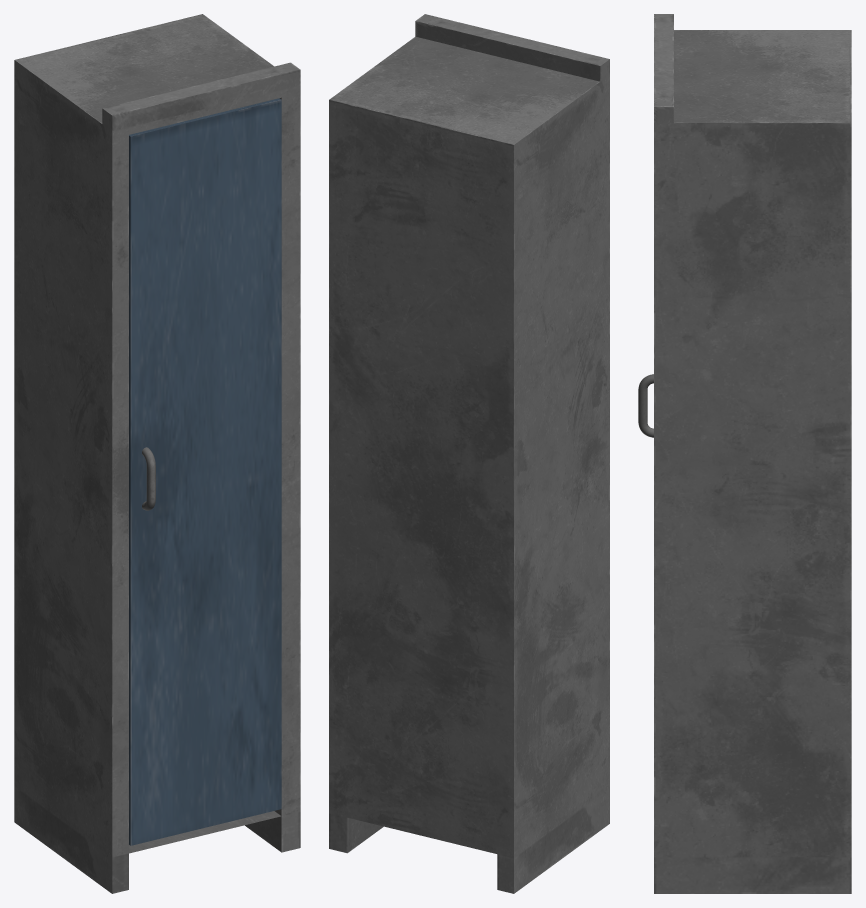
Rendered from locker.fbx.
The picture shows the model from 3 angles, left to right: view 1: azimuth 30°, elevation 25°; view 2: azimuth 150°, elevation 25°; view 3: azimuth 270°, elevation 25°; orthographic projection. The views are drawn at different scales.
Parts seen in each view (by area): view 1: body, door, dooHandle; view 2: body; view 3: body, dooHandle.
Boxes of the visible parts, bbox=[...] form: body: bbox=[14, 14, 300, 893]; door: bbox=[129, 98, 281, 845]; dooHandle: bbox=[142, 447, 155, 510]; body: bbox=[329, 14, 609, 893]; body: bbox=[654, 14, 851, 893]; dooHandle: bbox=[638, 374, 653, 437].
Size of the model in its own units: 0.445 by 1.76 by 0.4322.
